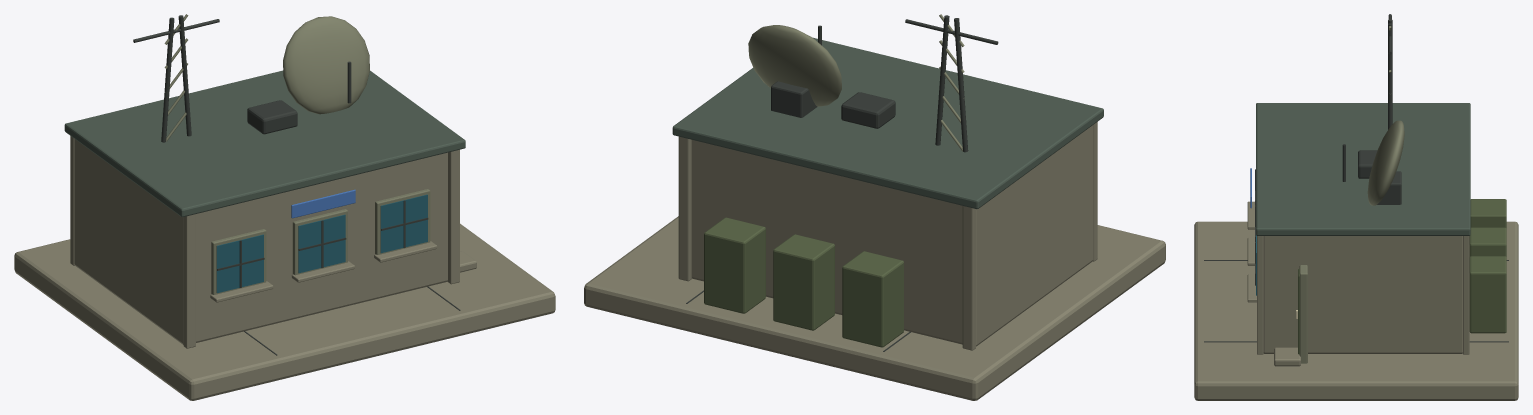
File: techlab.glb
3 renders of one model, left to right at view 1: azimuth 30°, elevation 25°; view 2: azimuth 150°, elevation 25°; view 3: azimuth 270°, elevation 25°, orthographic. The views are drawn at different scales.
Parts seen in each view (by area): view 1: Concrete, RoofMetal, EdgeSteel, Optics, Steel, TeamColor; view 2: Concrete, RoofMetal, Armor, EdgeSteel, Steel; view 3: Concrete, RoofMetal, Armor, EdgeSteel, Steel.
Boxes of the visible parts, bbox=[...] form: Concrete: bbox=[14, 136, 555, 400]; RoofMetal: bbox=[64, 70, 465, 217]; EdgeSteel: bbox=[164, 14, 430, 294]; Optics: bbox=[216, 194, 427, 293]; Steel: bbox=[133, 15, 460, 355]; TeamColor: bbox=[291, 189, 355, 218]; Concrete: bbox=[584, 122, 1165, 400]; RoofMetal: bbox=[672, 37, 1103, 209]; Armor: bbox=[704, 217, 903, 347]; EdgeSteel: bbox=[748, 14, 964, 151]; Steel: bbox=[686, 15, 998, 351]; Concrete: bbox=[1194, 201, 1518, 400]; RoofMetal: bbox=[1256, 103, 1470, 235]; Armor: bbox=[1298, 199, 1506, 354]; EdgeSteel: bbox=[1299, 26, 1404, 363]; Steel: bbox=[1204, 14, 1508, 342].
Size of the model in its own units: 5.7 by 4.24 by 4.8.
